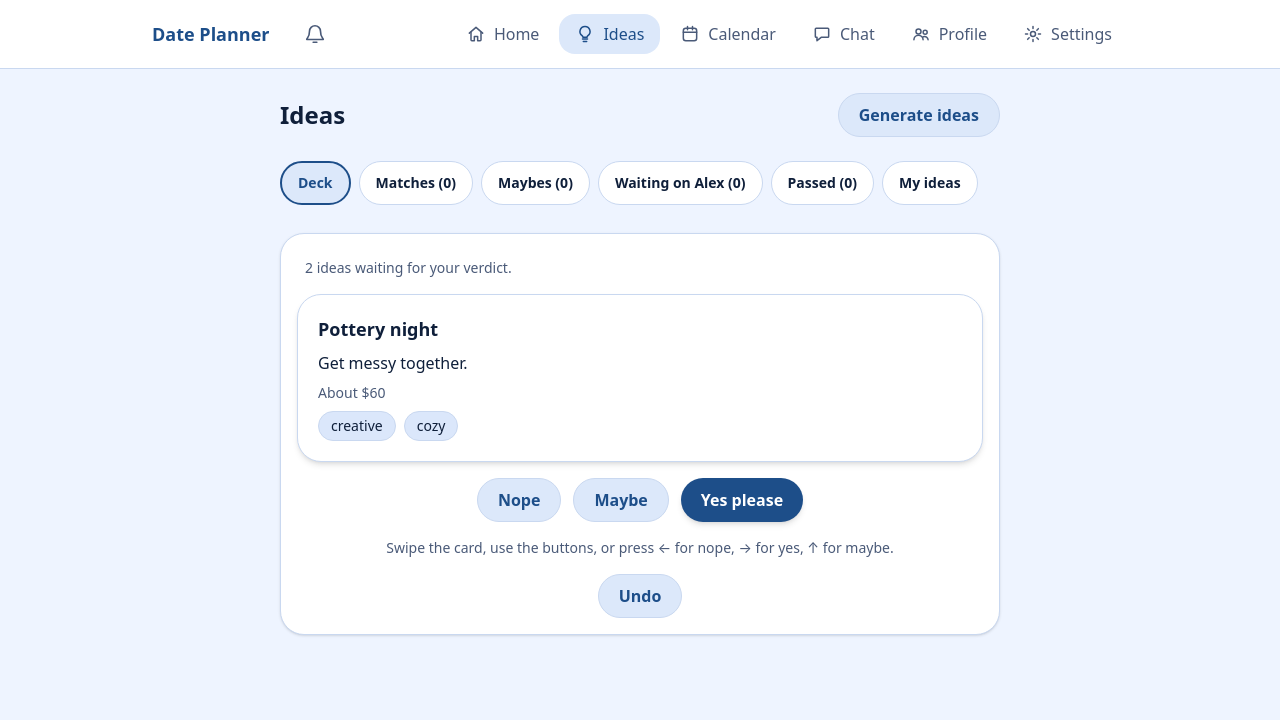
IdeasPage deck › undoes the latest vote and brings the card back
The width and height of the screenshot is (1280, 720).
expect the heading "Pottery night" is shown: met, box [318,317,438,341]
Click the button "Nope". click: (519, 500)
box: [477,478,561,522]
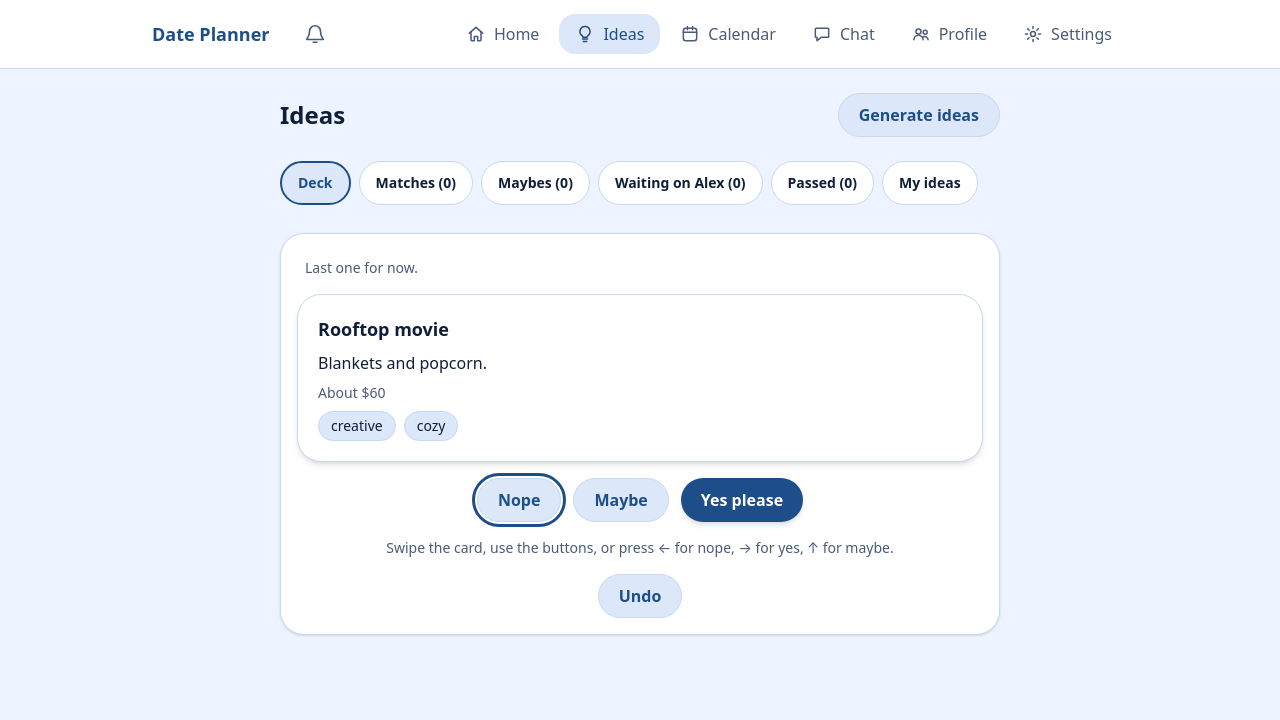
expect the heading "Rooftop movie" is shown: met, box [318,317,449,341]
Click the button "Undo". click: (640, 596)
box: [598,574,682,618]
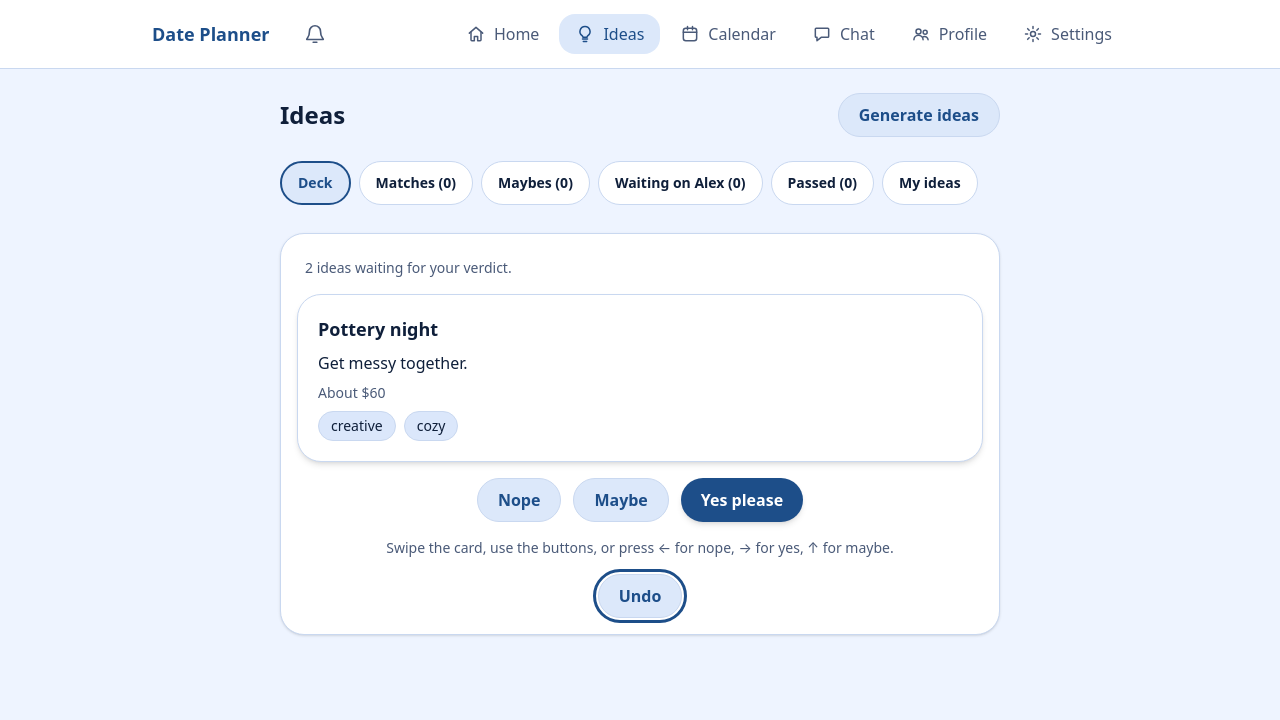
expect the heading "Pottery night" is shown: met, box [318,317,438,341]
